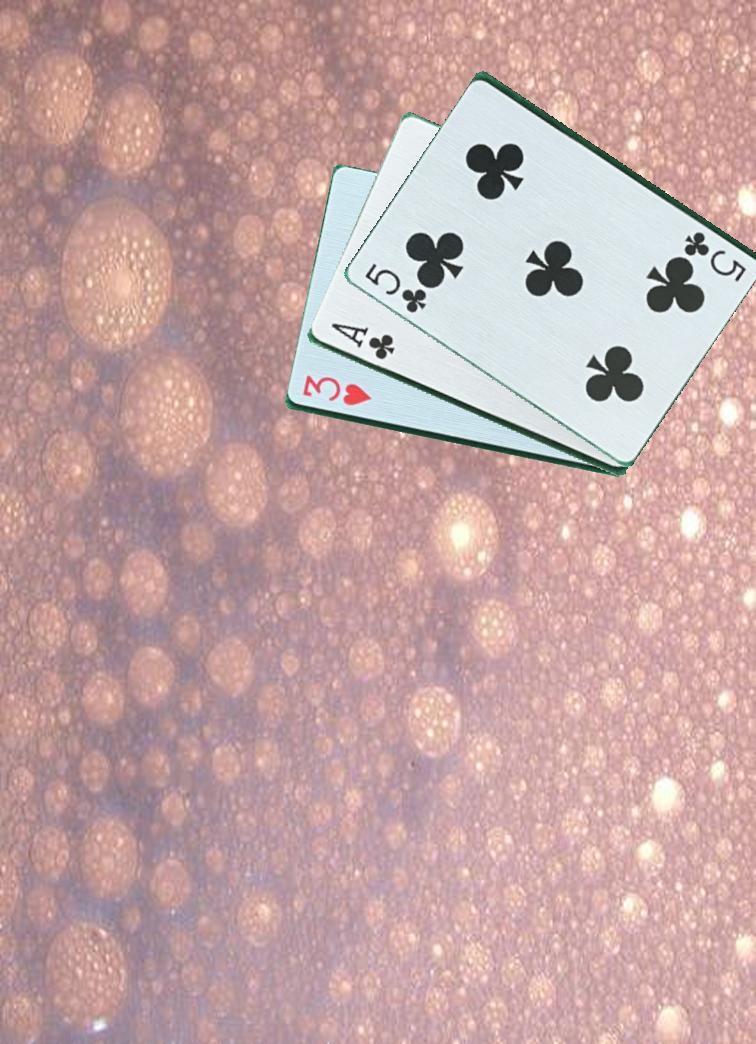3h: (298, 374, 374, 409)
5c: (360, 260, 429, 321), (680, 227, 749, 288)
ac: (326, 319, 397, 363)
